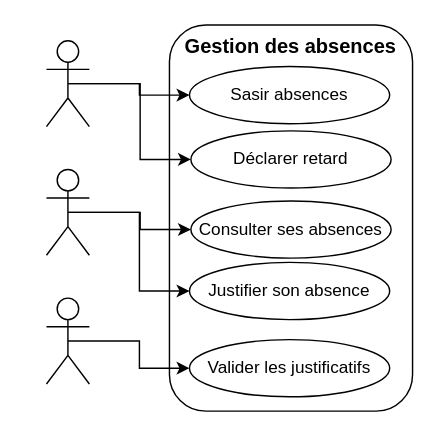
The diagram is 438 pixels wide and 448 high, and some of its shapes have lost their labels. Here are the shapes that lost their labels. From the top down, the box of each, then its label:
(45, 39, 89, 127): Enseignant
(45, 168, 89, 255): Étudiant
(45, 297, 89, 384): Scolarité
